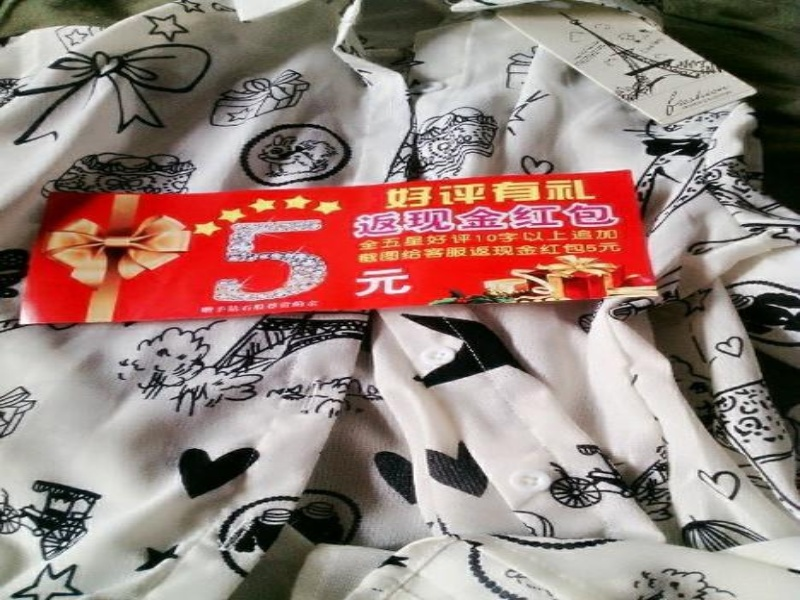long_sleeved_outwear: (0, 0, 798, 599)
